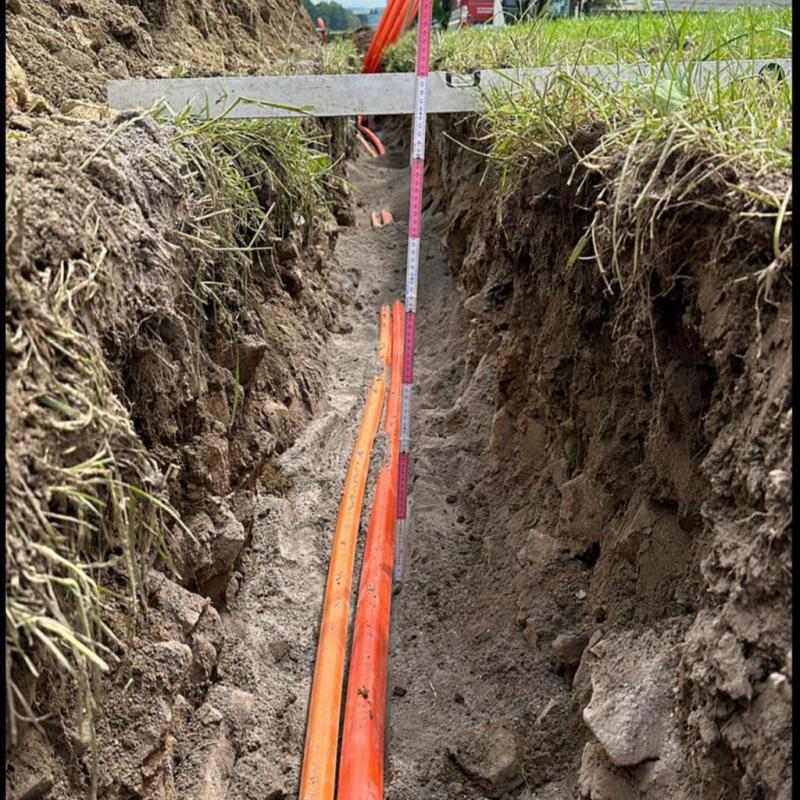Orang-Speednetrohrchen: (303, 305, 405, 798)
